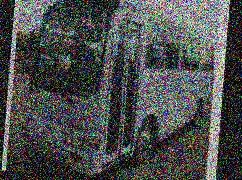bus: (21, 0, 219, 180)
